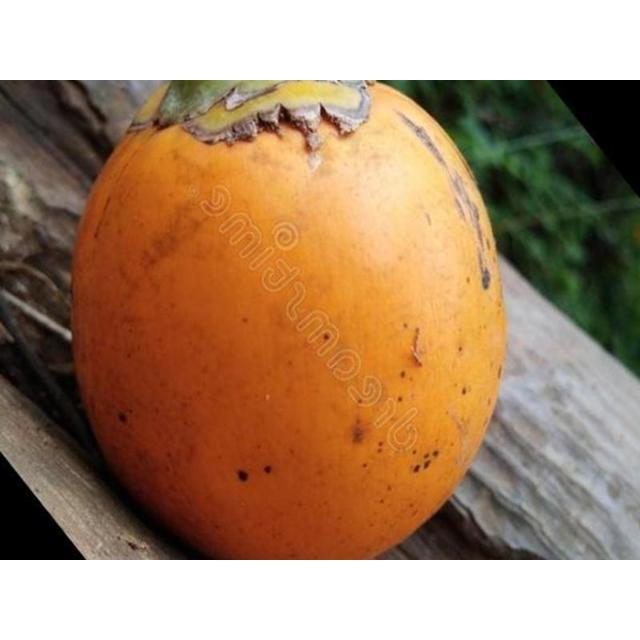good: (71, 80, 510, 559)
